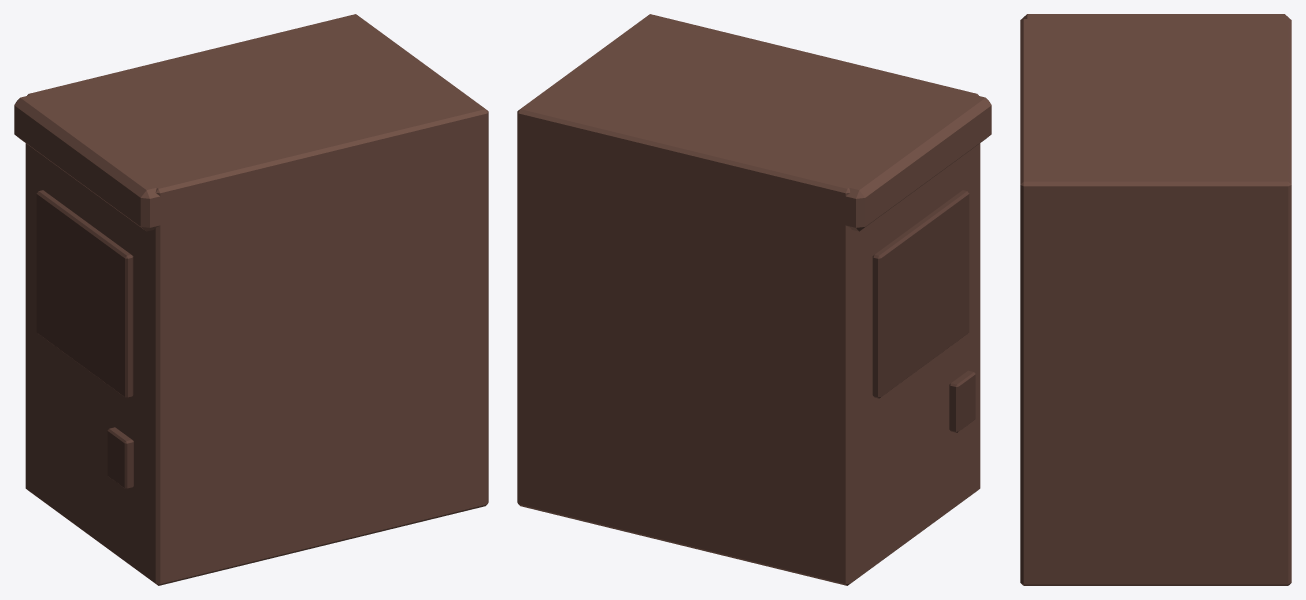
Rendered from pupitre_fer.glb.
The picture shows the model from 3 angles, left to right: view 1: azimuth 30°, elevation 25°; view 2: azimuth 150°, elevation 25°; view 3: azimuth 270°, elevation 25°; orthographic projection.
Parts seen in each view (by area): view 1: pupitre_fer; view 2: pupitre_fer; view 3: pupitre_fer.
Boxes of the visible parts, x1=… form: pupitre_fer: x1=14, y1=14, x2=488, y2=585; pupitre_fer: x1=517, y1=14, x2=991, y2=585; pupitre_fer: x1=1020, y1=14, x2=1291, y2=585.
Bounding box in the file's own units: 1.05 × 1.15 × 0.7.
Materials: 1 (1 with a texture image).
